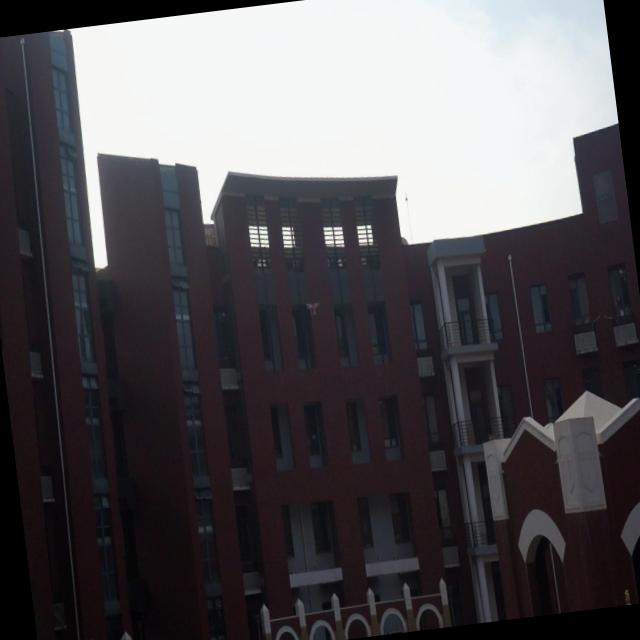drone: (305, 296, 323, 317)
